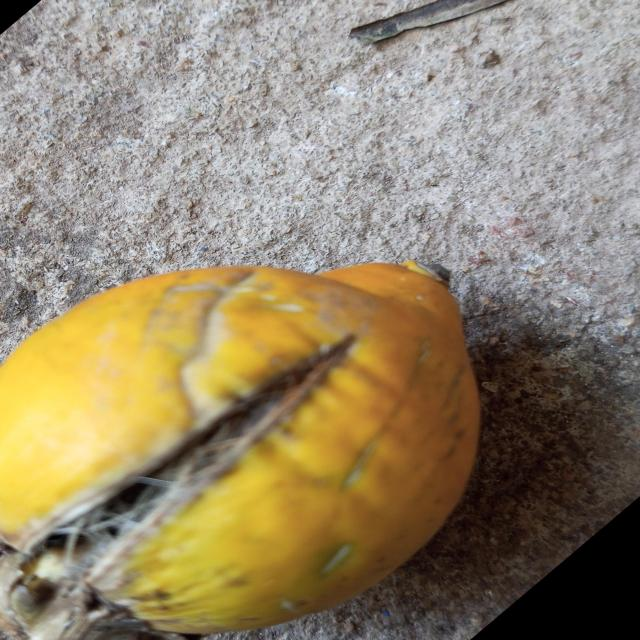damaged: (0, 261, 479, 640)
